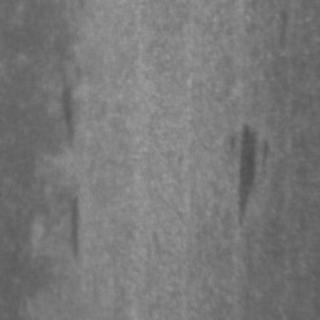inclusion: (224, 112, 262, 232), (46, 47, 82, 155), (58, 184, 88, 266)
